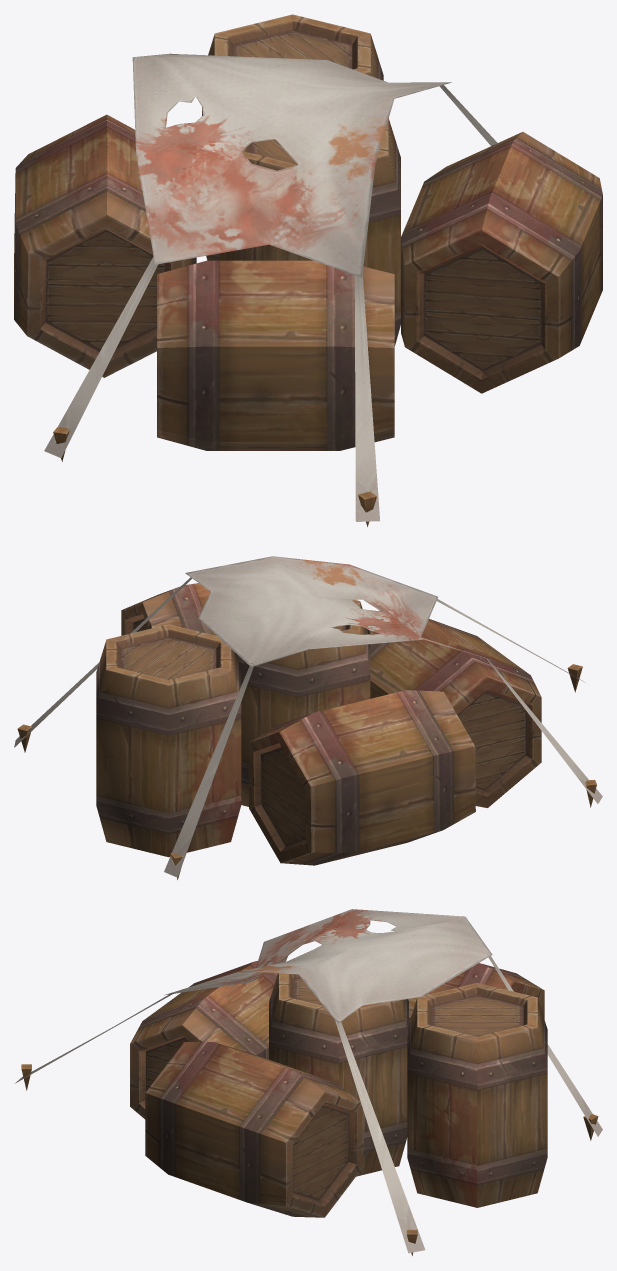
The model's file is sc_gcfxprops_008.FBX.
3 renders of one model, top to bottom at view 1: azimuth 30°, elevation 25°; view 2: azimuth 150°, elevation 25°; view 3: azimuth 270°, elevation 25°, orthographic. The views are drawn at different scales.
Parts seen in each view (by area): view 1: sc_gcfxprops_008; view 2: sc_gcfxprops_008; view 3: sc_gcfxprops_008.
Boxes of the visible parts, x1,y1,x2,y2 form: sc_gcfxprops_008: [14, 14, 602, 526]; sc_gcfxprops_008: [14, 556, 602, 879]; sc_gcfxprops_008: [15, 909, 602, 1255].
Size of the model in its own units: 6.27 by 2.65 by 6.59.
